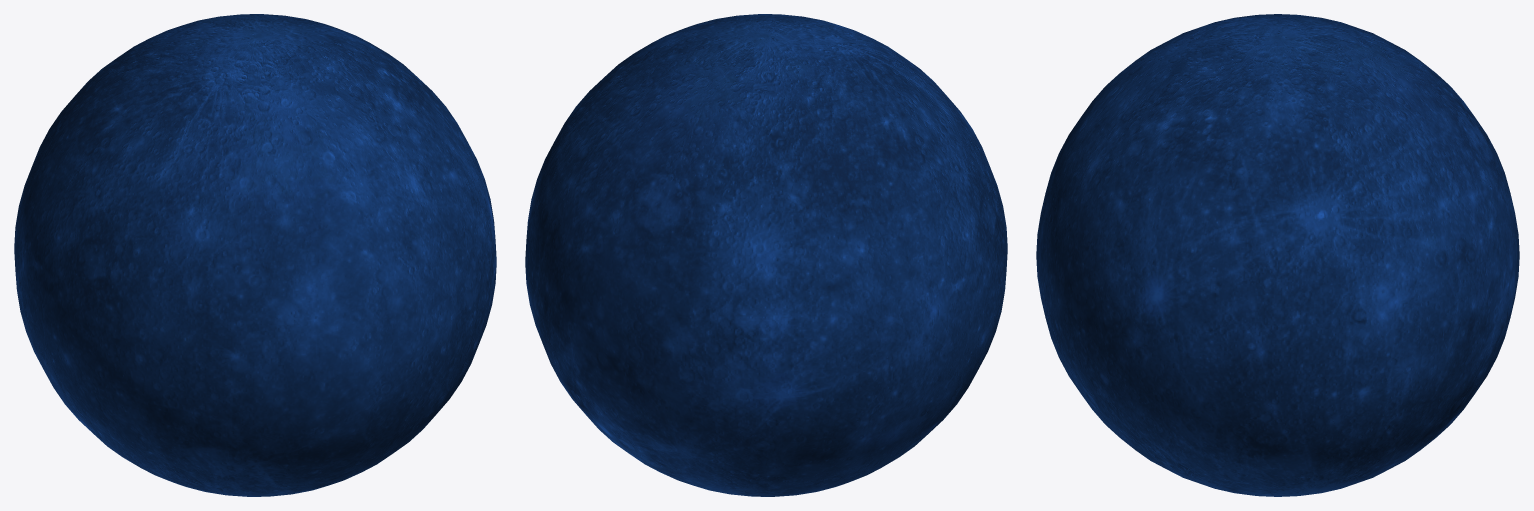
Rendered from mercury.gltf.
The picture shows the model from 3 angles, left to right: view 1: azimuth 30°, elevation 25°; view 2: azimuth 150°, elevation 25°; view 3: azimuth 270°, elevation 25°; orthographic projection.
Parts seen in each view (by area): view 1: Mercury; view 2: Mercury; view 3: Mercury.
Part boxes in pixels (left/top/right/bottom): Mercury: left=14, top=14, right=496, bottom=496; Mercury: left=525, top=14, right=1007, bottom=496; Mercury: left=1036, top=14, right=1519, bottom=496.
Size of the model in its own units: 2 by 2 by 2.
Materials: 1 (1 with a texture image).
